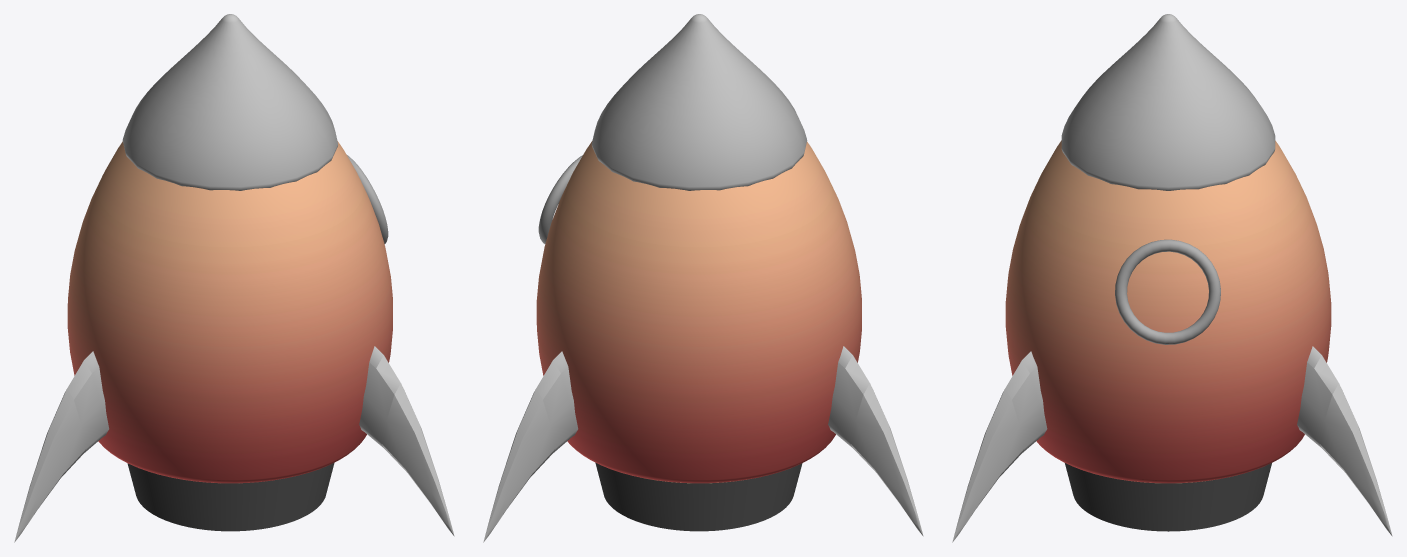
The model's file is rocket.gltf.
3 views of the same model, side by side, from view 1: azimuth 30°, elevation 25°; view 2: azimuth 150°, elevation 25°; view 3: azimuth 270°, elevation 25° (orthographic).
Parts seen in each view (by area): view 1: Cylinder, Cone, Box - baked (×2), Cylinder 1, Torus; view 2: Cylinder, Cone, Box - baked (×2), Cylinder 1, Torus; view 3: Cylinder, Cone, Box - baked (×2), Cylinder 1, Torus.
Part boxes in pixels (x1,y1,x2,y2): Cylinder: (67,141,392,483); Cone: (122,14,337,190); Box - baked (×2): (14,346,454,542); Cylinder 1: (127,462,334,531); Torus: (346,154,388,243); Cylinder: (536,141,861,483); Cone: (591,14,807,190); Box - baked (×2): (483,346,923,542); Cylinder 1: (595,462,802,531); Torus: (538,155,582,243); Cylinder: (1005,140,1331,483); Cone: (1061,14,1275,190); Box - baked (×2): (952,346,1392,542); Cylinder 1: (1065,463,1271,531); Torus: (1115,239,1220,344).
Bounding box in the file's own units: 0.1704 × 0.2129 × 0.1784.
7 materials, 1 textured.
